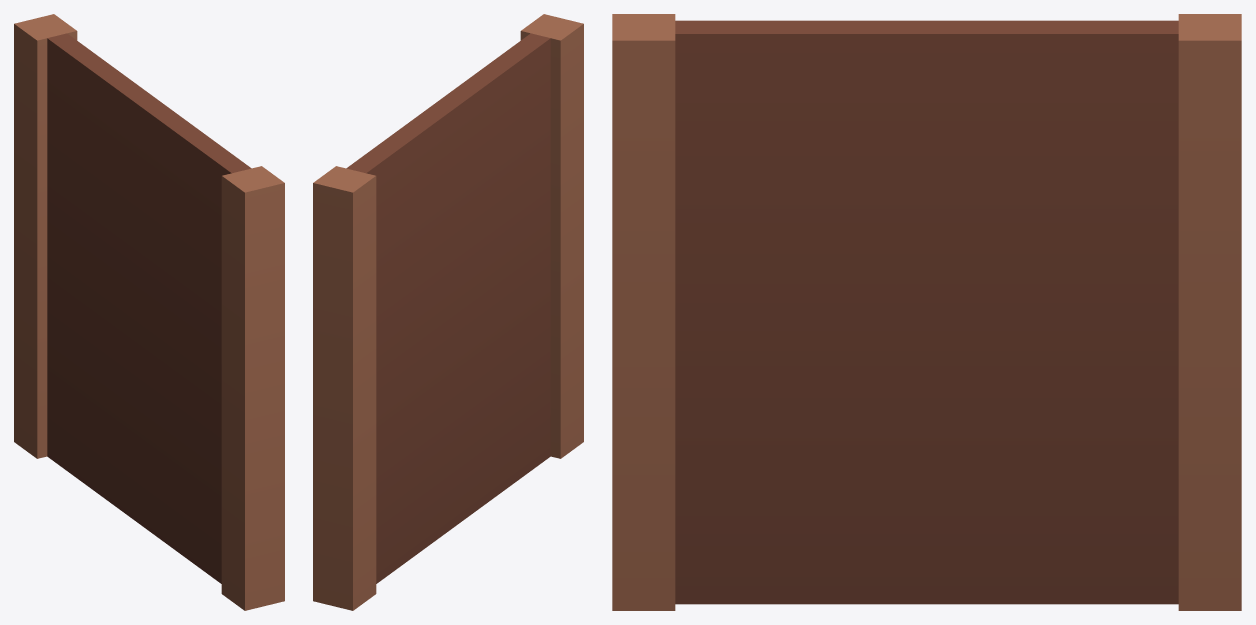
File: town-wall-wood.glb
The picture shows the model from 3 angles, left to right: view 1: azimuth 30°, elevation 25°; view 2: azimuth 150°, elevation 25°; view 3: azimuth 270°, elevation 25°; orthographic projection. The views are drawn at different scales.
Visible parts, largest first — view 1: town-wall-wood; view 2: town-wall-wood; view 3: town-wall-wood.
Part boxes in pixels (x1=…): town-wall-wood: x1=14, y1=14, x2=284, y2=610; town-wall-wood: x1=313, y1=14, x2=583, y2=610; town-wall-wood: x1=612, y1=14, x2=1241, y2=610.
Size of the model in its own units: 0.1 by 1 by 1.
